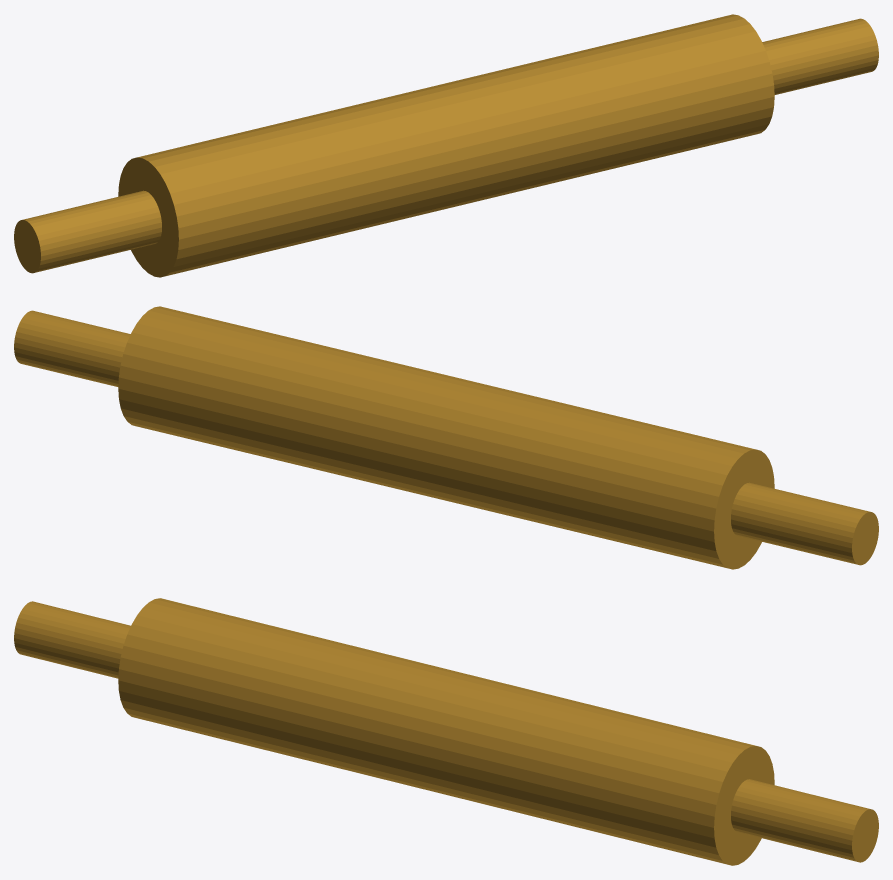
Rendered from Rolling Pin.fbx.
3 views of the same model, one above another, from view 1: azimuth 30°, elevation 25°; view 2: azimuth 150°, elevation 25°; view 3: azimuth 330°, elevation 25° (orthographic).
Visible parts, largest first — view 1: Cylinder; view 2: Cylinder; view 3: Cylinder.
Part boxes in pixels (x1,y1,x2,y2): Cylinder: (14, 14, 878, 277); Cylinder: (14, 306, 878, 569); Cylinder: (14, 598, 878, 865).
Bounding box in the file's own units: 360 × 46.76 × 45.09.
